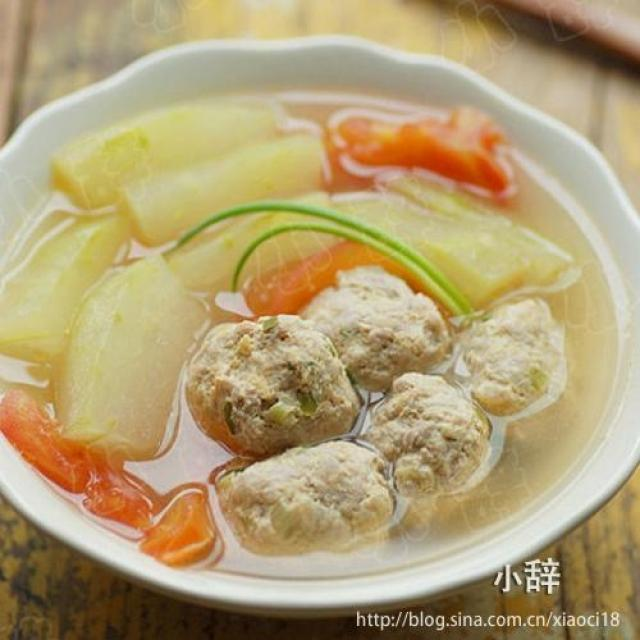汤锅炖物: (40, 66, 576, 552)
